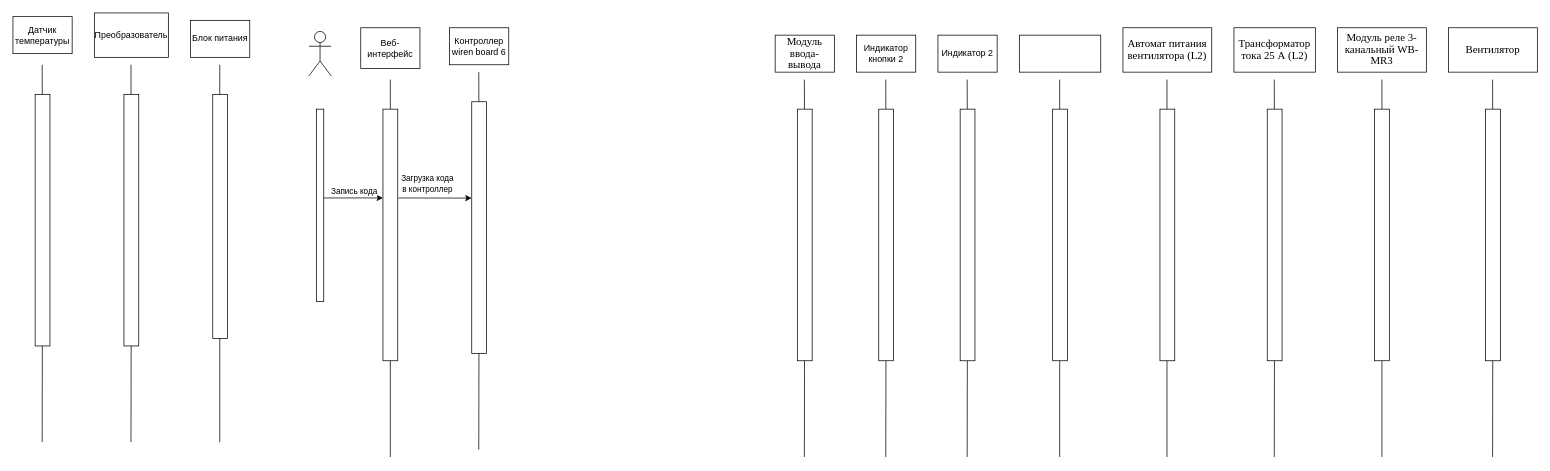
This 1550x471 diagram has some shape labels left out. The shapes that lost their labels are listed below. From the top down, each one's centre as x and y in pixels, then its label:
(319,53): Actor
(1060,53): Электросчетчик "Милур 307"
